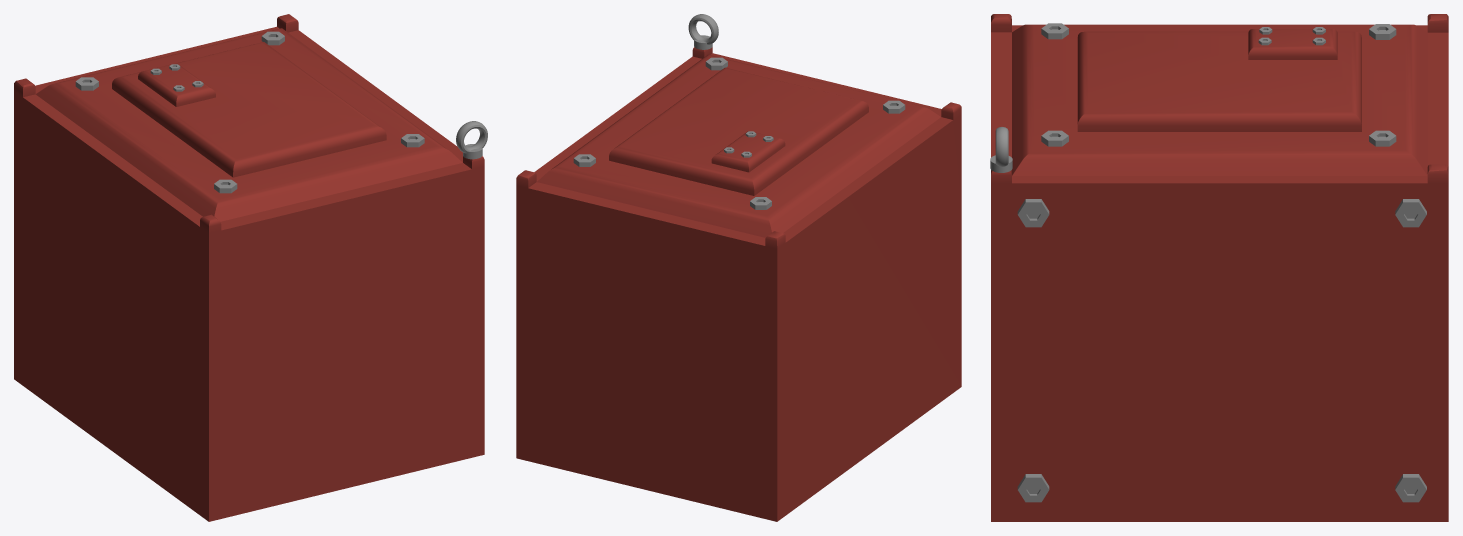
Rendered from fancy_cube.fbx.
The picture shows the model from 3 angles, left to right: view 1: azimuth 30°, elevation 25°; view 2: azimuth 150°, elevation 25°; view 3: azimuth 270°, elevation 25°; orthographic projection. The views are drawn at different scales.
Visible parts, largest first — view 1: Cube, Cylinder; view 2: Cube, Cylinder; view 3: Cube, Cylinder.
Part boxes in pixels (x1,y1,x2,y2): Cube: (14,14,484,521); Cylinder: (75,31,487,193); Cube: (516,47,961,521); Cylinder: (573,14,905,209); Cube: (991,14,1448,521); Cylinder: (990,23,1426,502).
Size of the model in its own units: 387 by 433 by 462.
